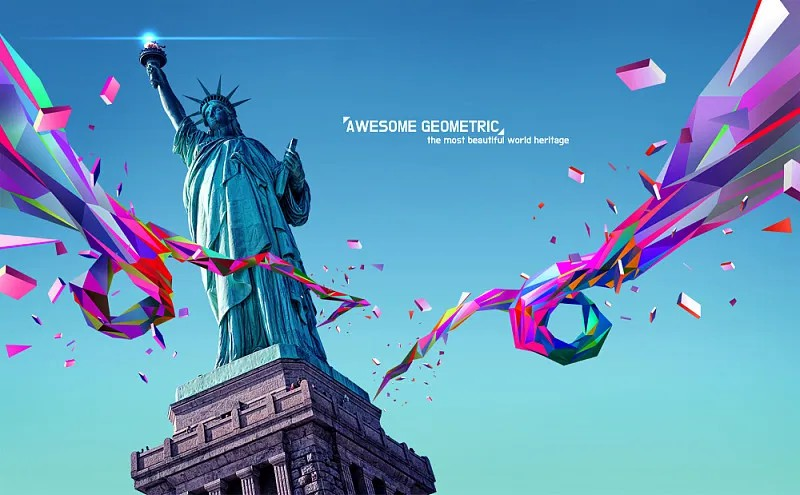SL: (129, 34, 437, 495)
